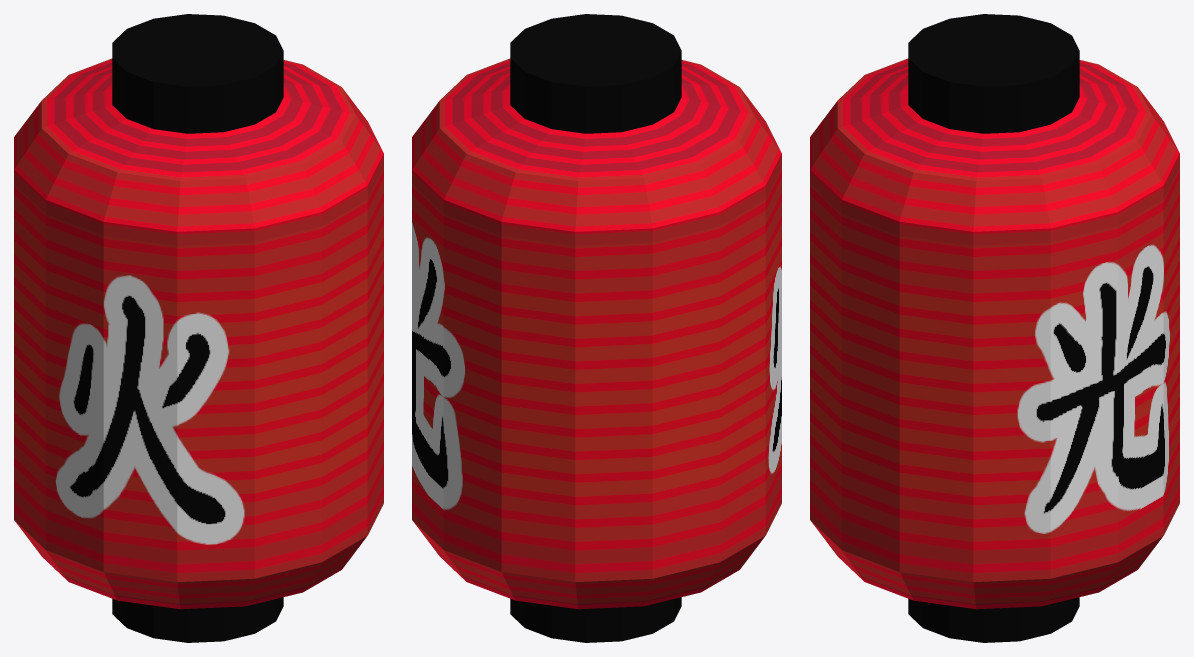
Rendered from Japanese_Lantern.fbx.
The picture shows the model from 3 angles, left to right: view 1: azimuth 30°, elevation 25°; view 2: azimuth 150°, elevation 25°; view 3: azimuth 270°, elevation 25°; orthographic projection.
Visible parts, largest first — view 1: Cylinder; view 2: Cylinder; view 3: Cylinder.
Boxes of the visible parts, box(x1,y1,x2,y2) form: Cylinder: box(14, 14, 383, 642); Cylinder: box(412, 14, 781, 642); Cylinder: box(810, 14, 1179, 642).
Size of the model in its own units: 113 by 186 by 112.
